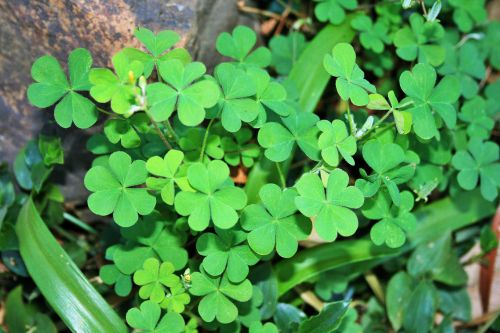oxalis: (70, 41, 417, 263)
